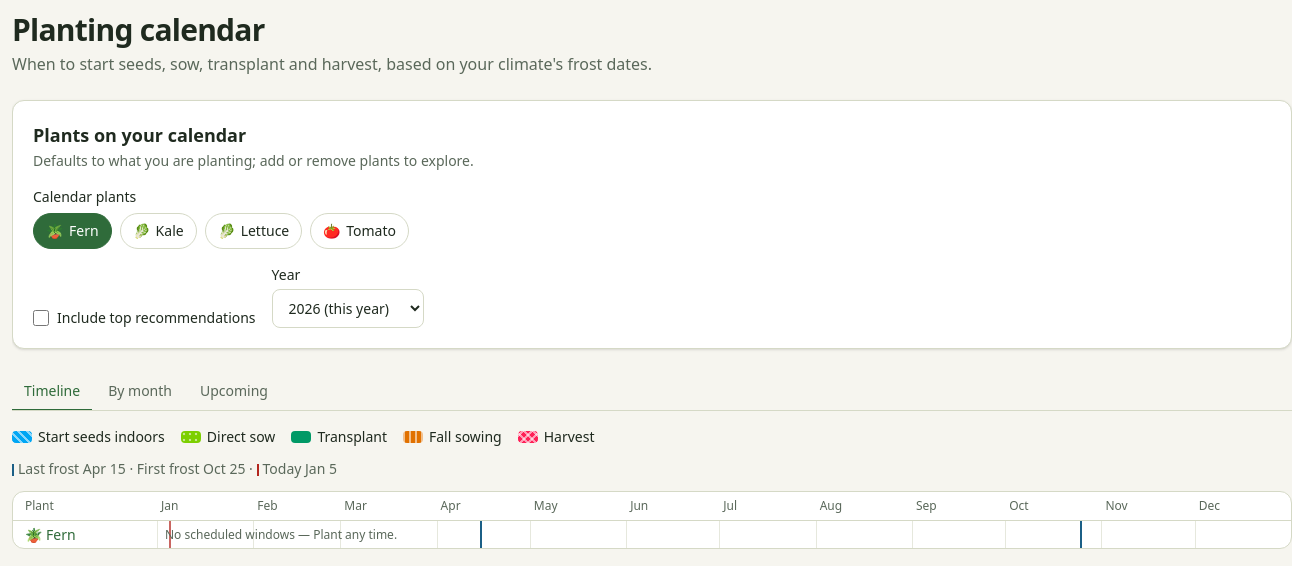
CalendarPage › upcoming tab › says when nothing is coming up
The width and height of the screenshot is (1292, 566).
Click the tab "Upcoming" at [234, 392], box [188, 373, 280, 411]
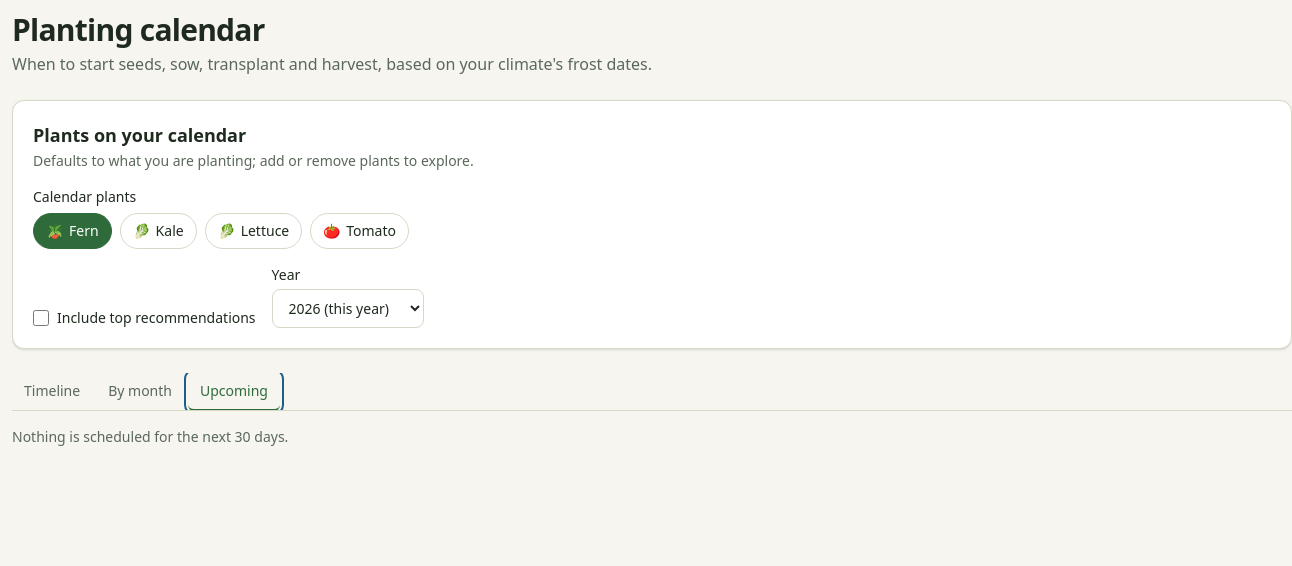
expect the text "Nothing is scheduled for the next 30 days." is shown: met, box [12, 427, 288, 446]
